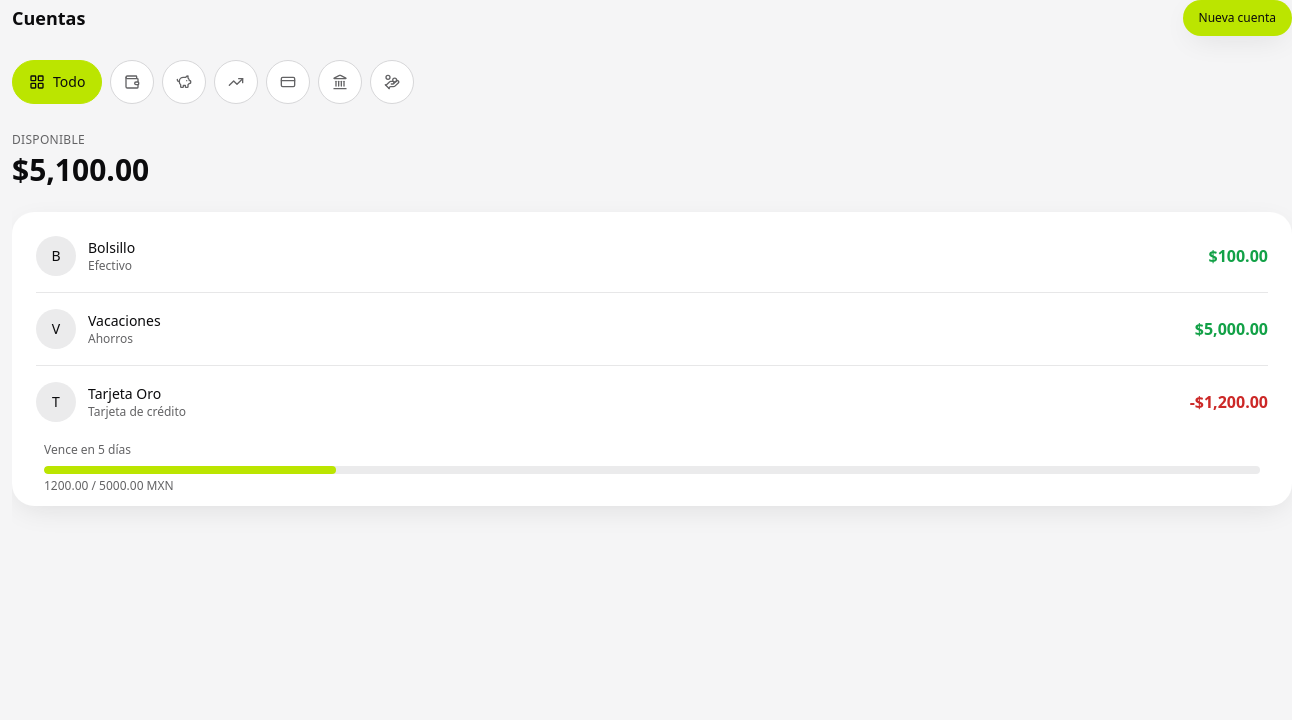
Test: AccountsScreen — tabbed type filter › selecting Tarjetas de crédito shows the owed total (debt magnitude), not the signed balance
Click the tab named "Tarjetas de crédito" at (288, 82), box [266,60,310,104]
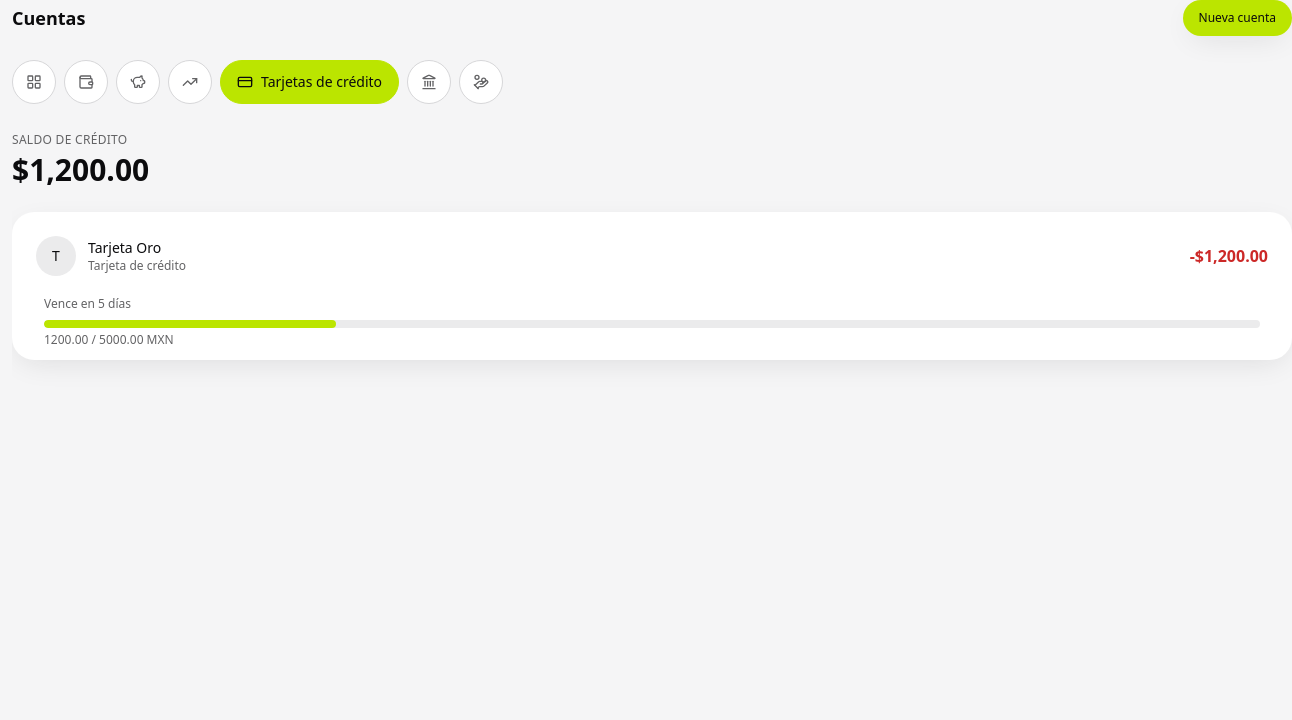
Expected: the text "Tarjeta Oro" is shown, [88,238,161,257]
Expected: the link "Vacaciones" is gone
Expected: the text "$1,200.00" is shown, [12,149,149,190]
